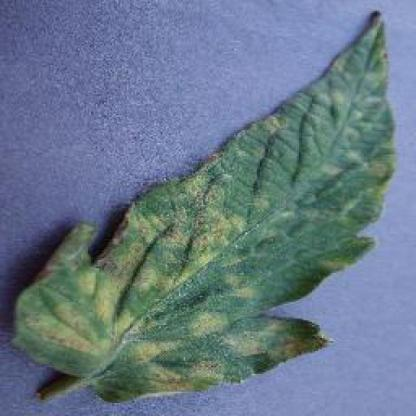Tomato_Leaf_Mold: (8, 11, 396, 400)
